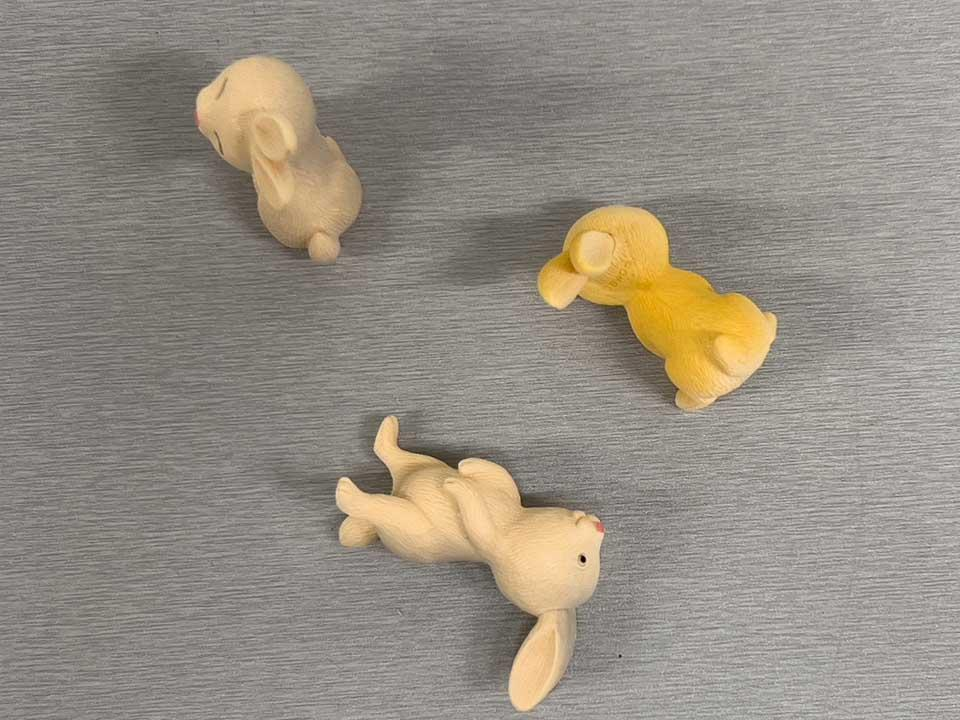pet: (328, 409, 607, 712), (525, 198, 783, 412), (184, 51, 369, 270)
